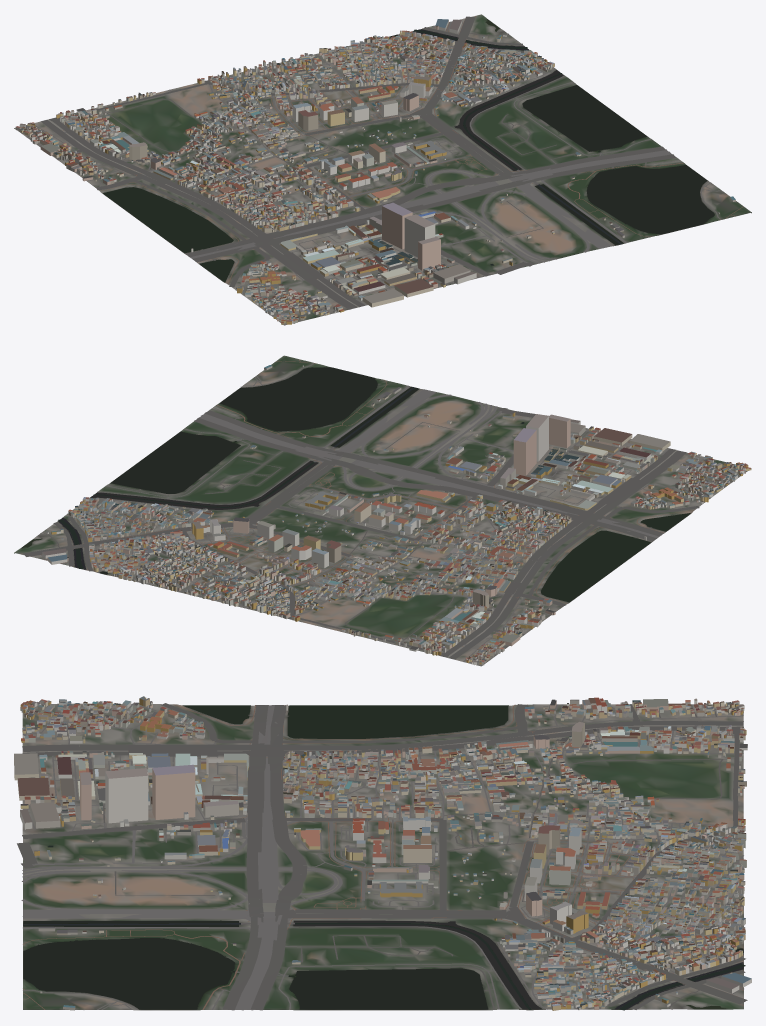
3 renders of one model, top to bottom at view 1: azimuth 30°, elevation 25°; view 2: azimuth 150°, elevation 25°; view 3: azimuth 270°, elevation 25°, orthographic. The views are drawn at different scales.
Visible parts, largest first — view 1: ground, buildings, roads, water; view 2: buildings, ground, roads, water; view 3: ground, buildings, roads, water.
Part boxes in pixels (box(x1,y1,x2,y2)): ground: box(14, 14, 751, 325); buildings: box(15, 19, 735, 324); roads: box(22, 16, 743, 325); water: box(103, 19, 714, 282); buildings: box(42, 365, 751, 665); ground: box(14, 355, 751, 666); roads: box(21, 359, 738, 663); water: box(21, 367, 690, 602); ground: box(22, 703, 743, 1010); buildings: box(14, 696, 751, 1010); roads: box(17, 703, 747, 1010); water: box(23, 705, 745, 1010).
Size of the model in its own units: 1412 by 102 by 1435.
